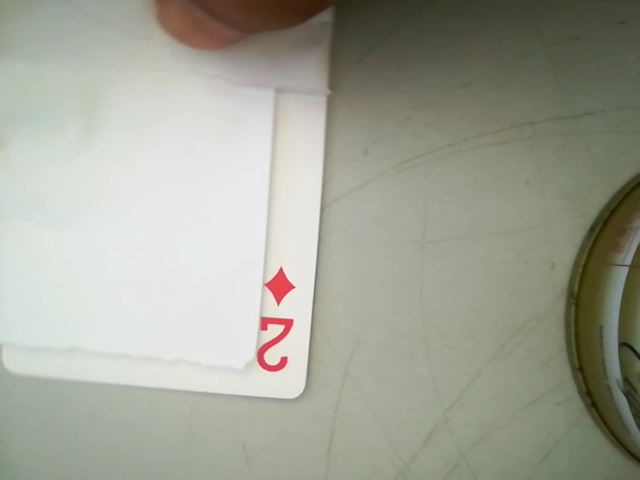fk 2: (242, 261, 307, 388)
